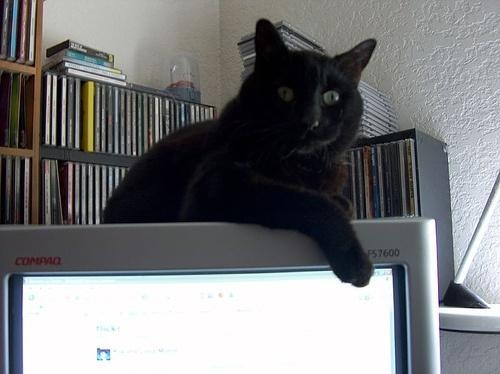cat: (97, 16, 382, 291)
tvmonitor: (1, 225, 441, 373)
